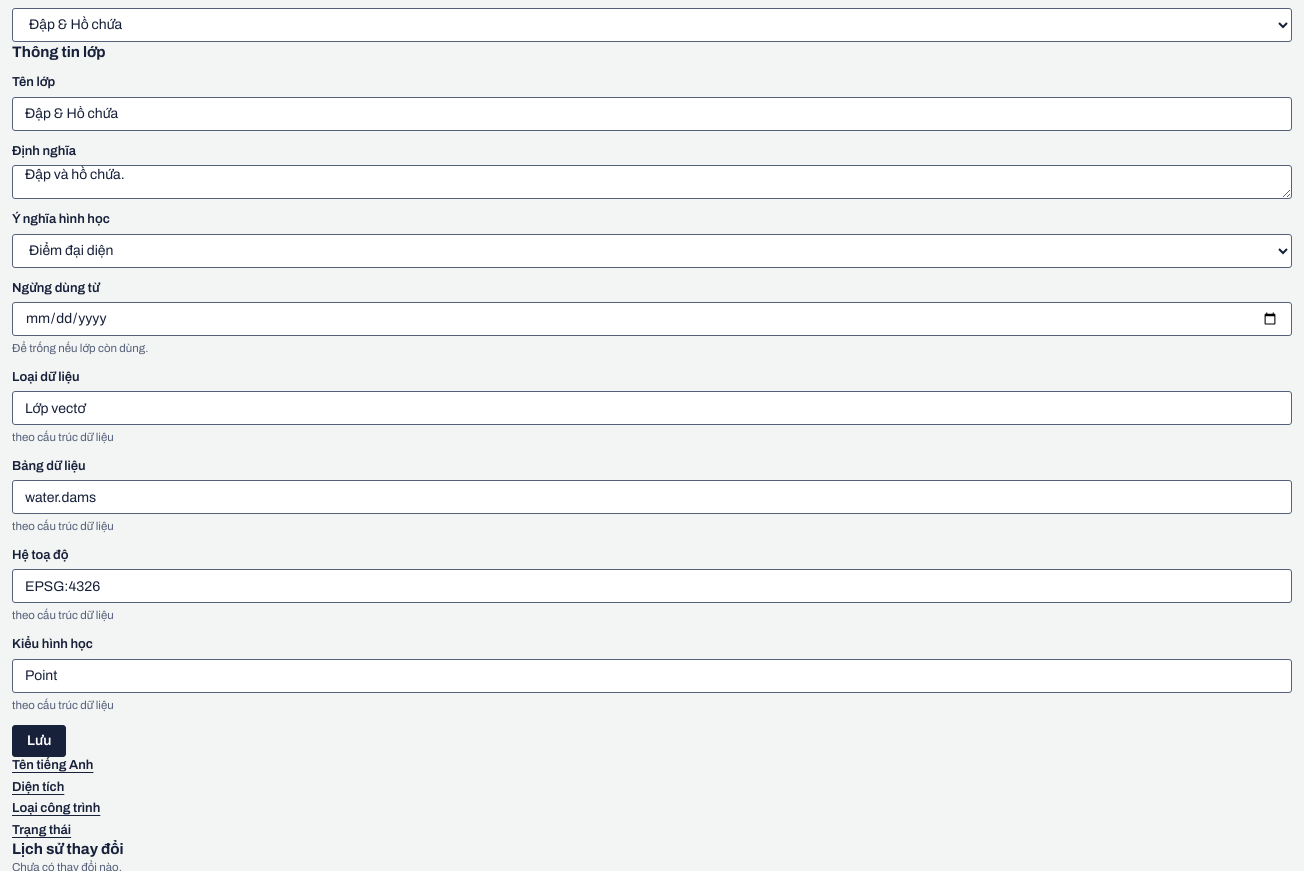
Test case: dictionary editor › a 400 naming a field the form does not show is shown on the form
Click the button "Tên tiếng Anh".
click(53, 765)  # box [12, 758, 93, 772]
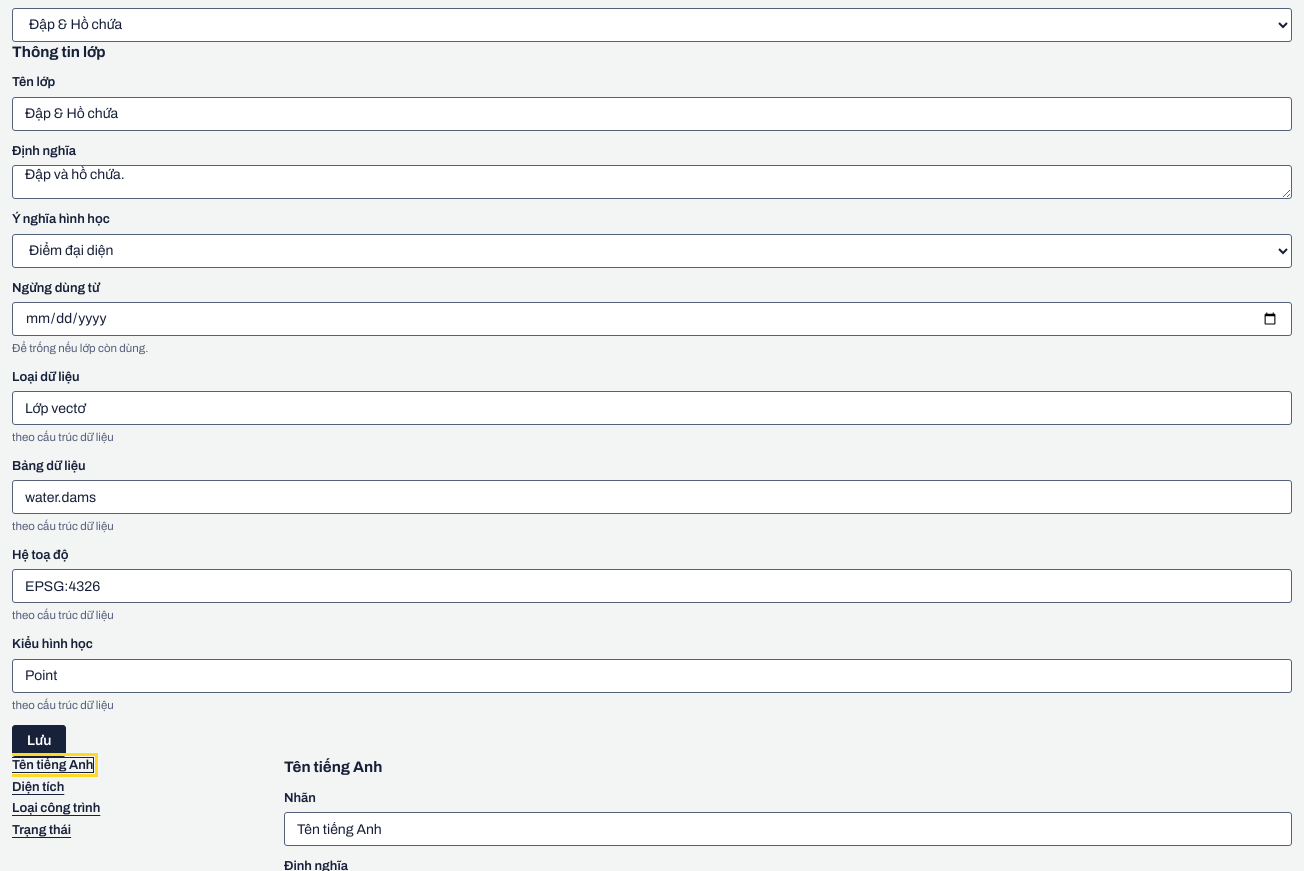
Type "!" into the field labelled "Nhãn".
click(788, 829); type("!")  # box [284, 812, 1292, 846]
(page scrolled)
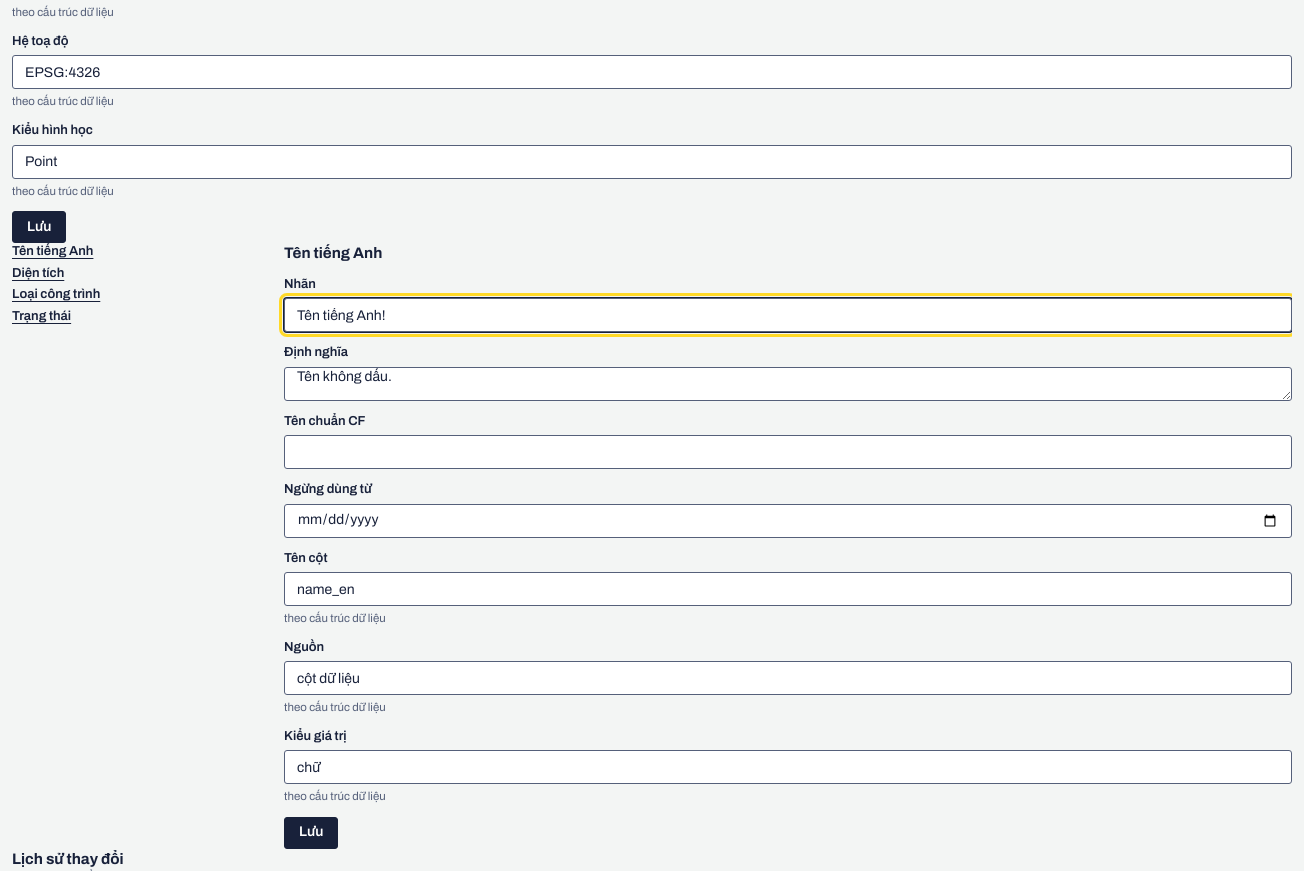
Click the button "Lưu" below "Kiểu giá trị".
click(311, 833)  # box [284, 817, 338, 849]
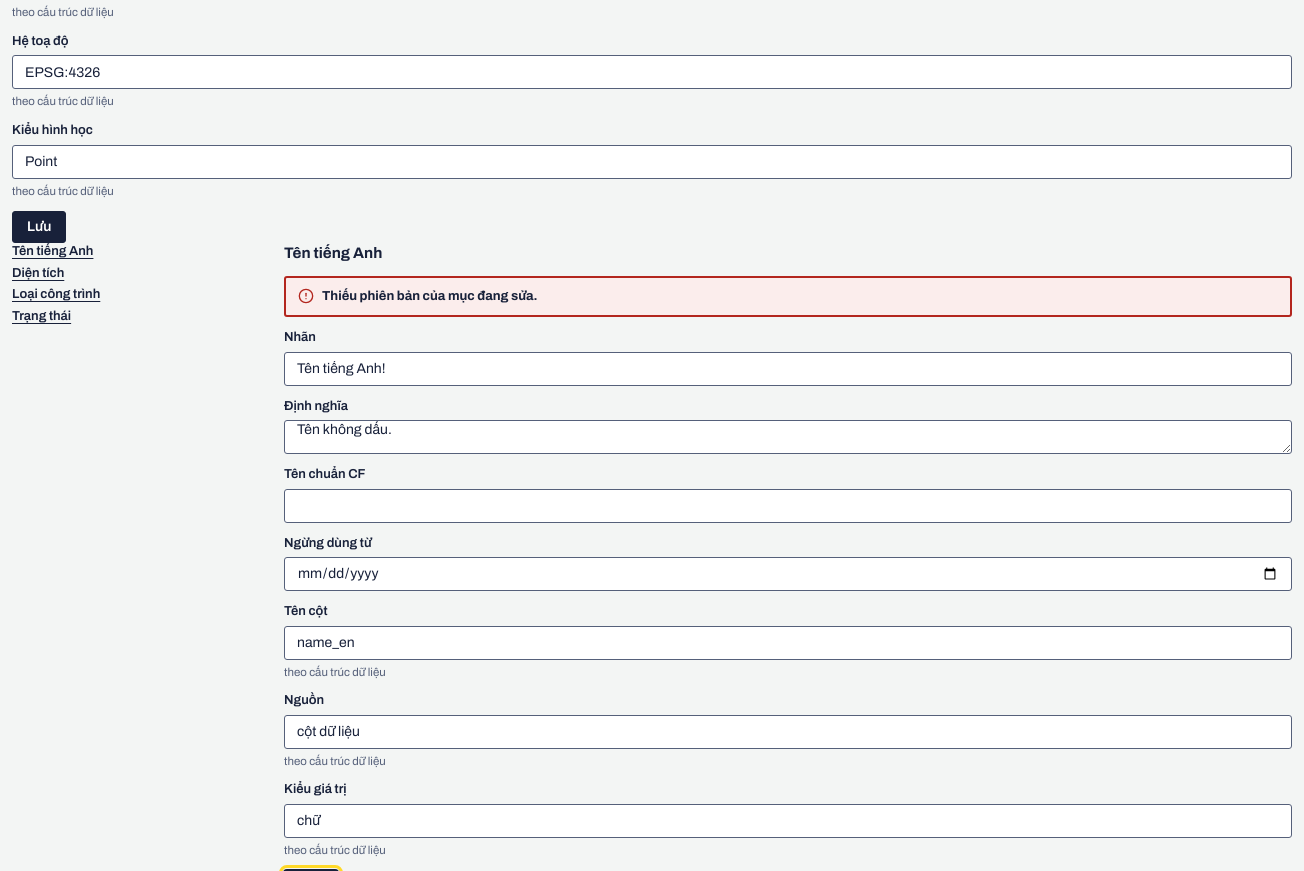
Expected: the text "Thiếu phiên bản của mục đang sửa." is shown, [322, 288, 538, 302]
